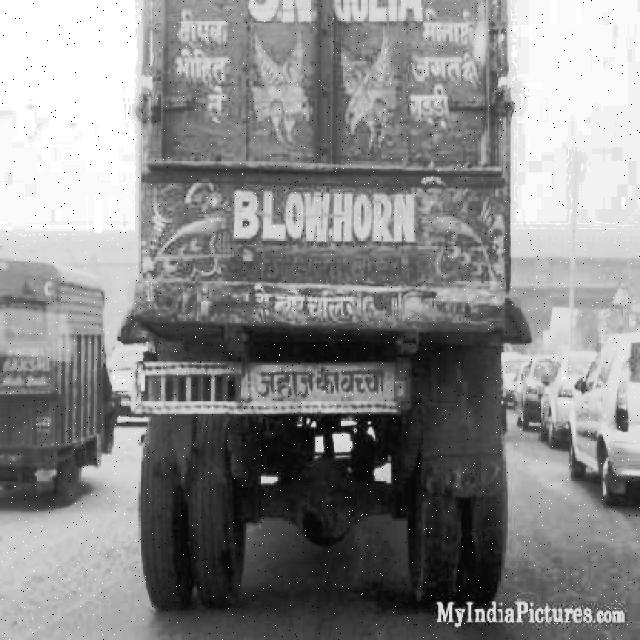HCV: (134, 17, 507, 585)
